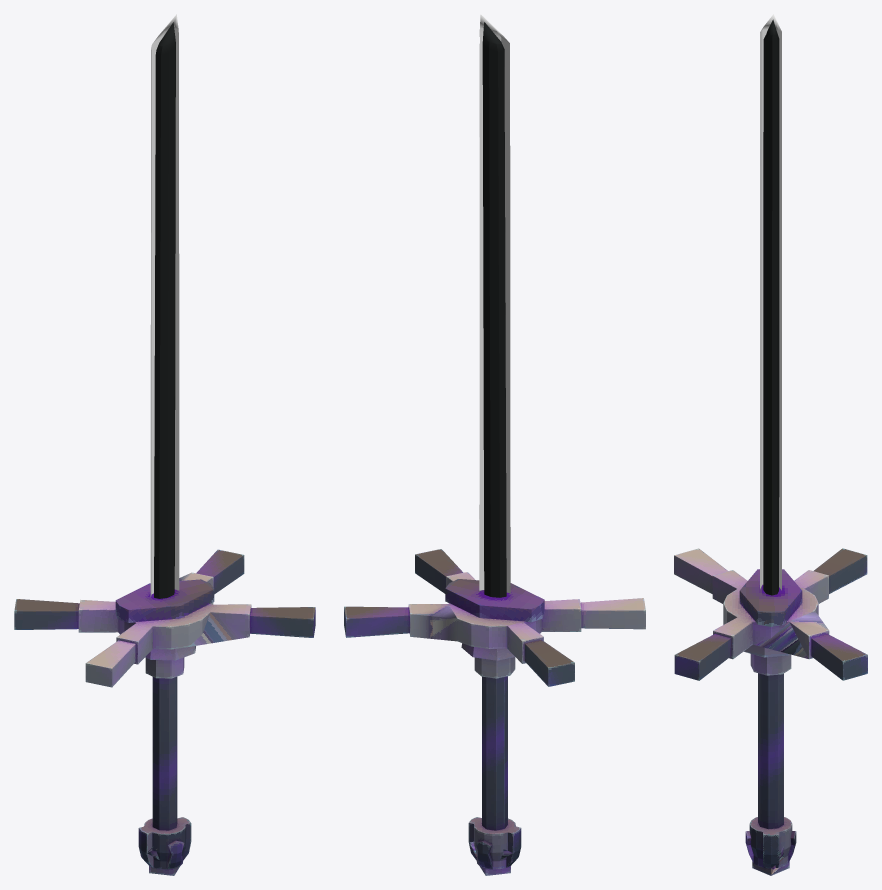
The model's file is item_energy_sword_dual.glb.
3 renders of one model, left to right at view 1: azimuth 30°, elevation 25°; view 2: azimuth 150°, elevation 25°; view 3: azimuth 270°, elevation 25°, orthographic.
Parts seen in each view (by area): view 1: Sword_Dual, Sword_Dual_Saber2; view 2: Sword_Dual, Sword_Dual_Saber2; view 3: Sword_Dual, Sword_Dual_Saber2.
Boxes of the visible parts, box(x1,y1,x2,y2) form: Sword_Dual: box(14, 549, 315, 875); Sword_Dual_Saber2: box(150, 14, 179, 598); Sword_Dual: box(344, 549, 645, 875); Sword_Dual_Saber2: box(479, 14, 510, 597); Sword_Dual: box(674, 548, 867, 875); Sword_Dual_Saber2: box(760, 14, 781, 595).
Bounding box in the file's own units: 0.4074 × 1.44 × 0.2934.
Materials: 1 (1 with a texture image).
